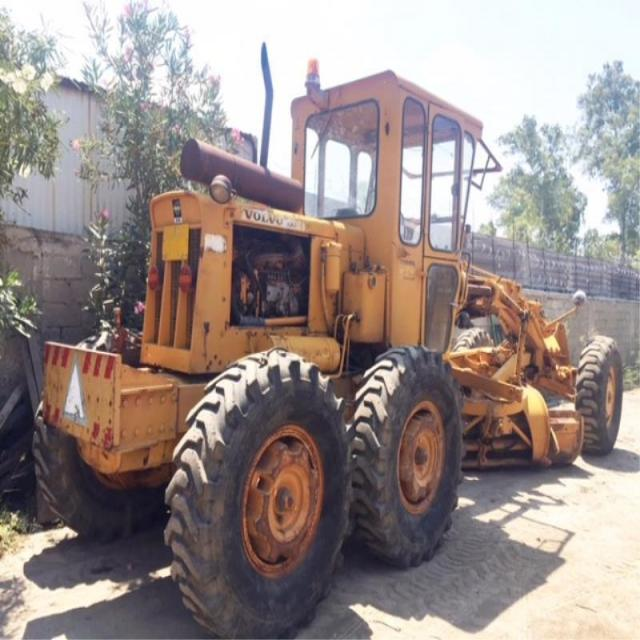Grader: (60, 61, 632, 639)
